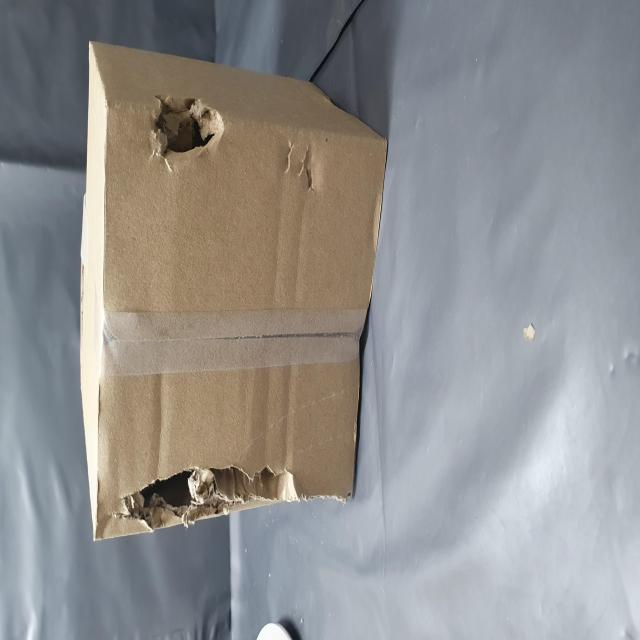damaged: (66, 223, 104, 577), (270, 257, 306, 408)
